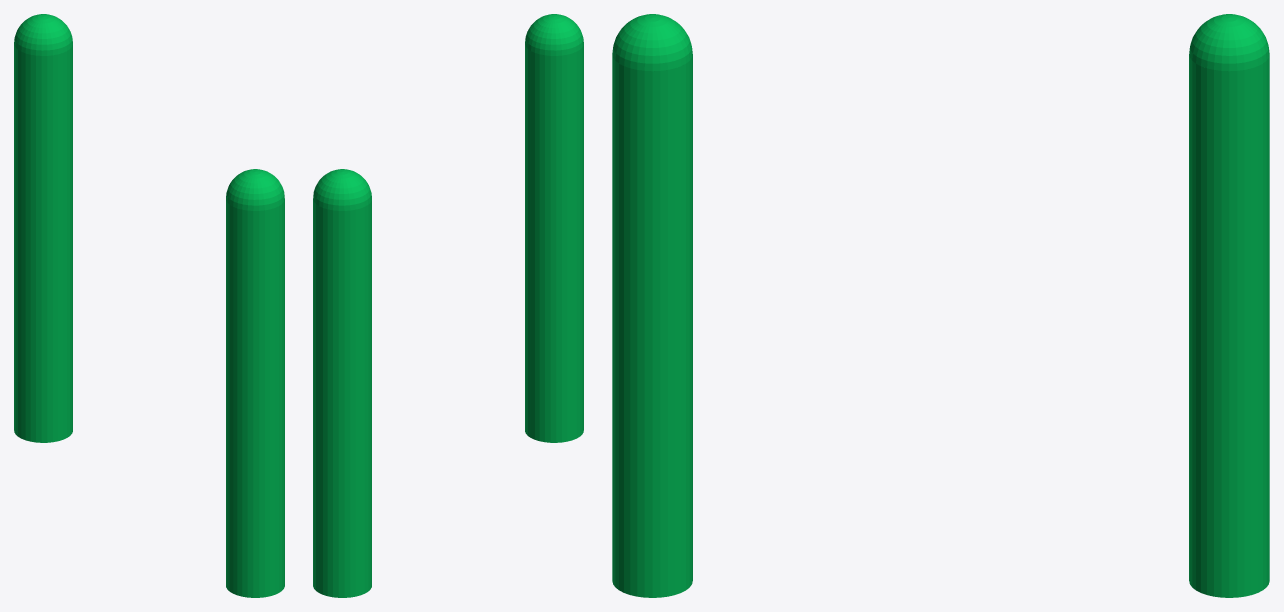
Rendered from NewGate.fbx.
3 renders of one model, left to right at view 1: azimuth 30°, elevation 25°; view 2: azimuth 150°, elevation 25°; view 3: azimuth 270°, elevation 25°, orthographic. The views are drawn at different scales.
Parts seen in each view (by area): view 1: Cylinder.001, Cylinder; view 2: Cylinder, Cylinder.001; view 3: Cylinder, Cylinder.001.
Boxes of the visible parts, left/top/right/bottom form: Cylinder.001: left=14, top=14, right=72, bottom=442; Cylinder: left=226, top=169, right=284, bottom=597; Cylinder: left=525, top=14, right=583, bottom=442; Cylinder.001: left=313, top=169, right=371, bottom=597; Cylinder: left=612, top=14, right=692, bottom=597; Cylinder.001: left=1189, top=14, right=1269, bottom=597.
Size of the model in its own units: 122 by 943 by 997.
